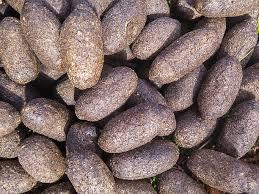Elk: (3, 8, 253, 170)
